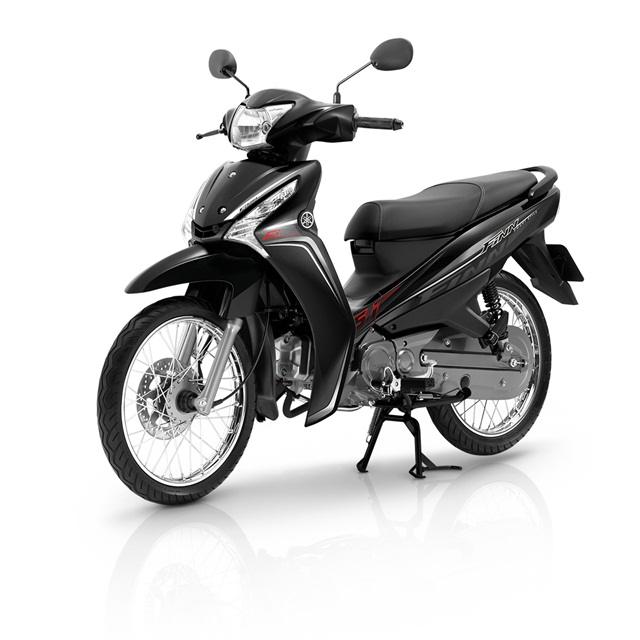motorcycle: (95, 86, 577, 505)
